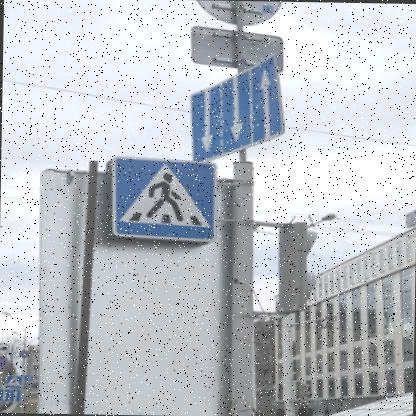crosswalk: (106, 152, 214, 240)
trafficlight: (269, 220, 317, 310)
